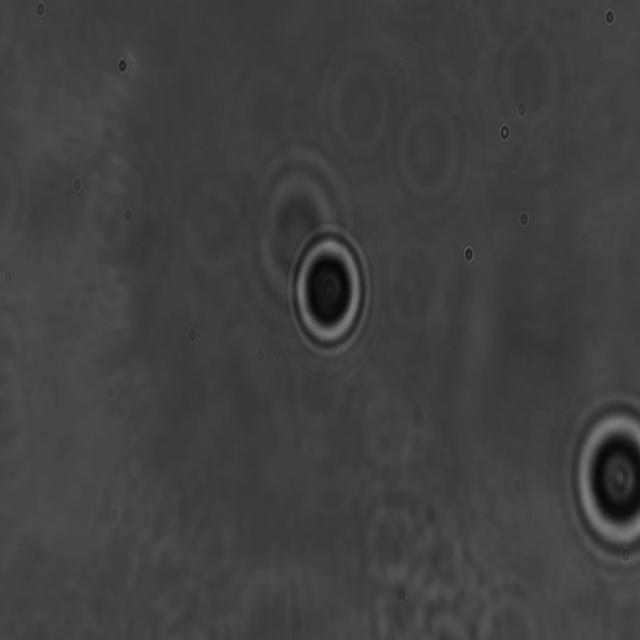DCELL: (285, 219, 374, 359)
